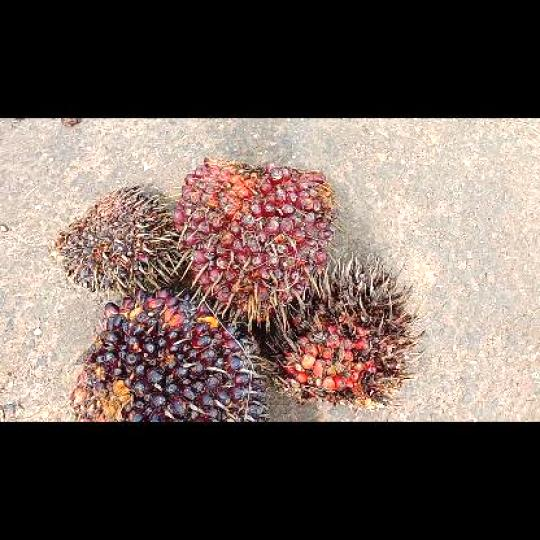kurang masak: (69, 286, 271, 420)
masak: (170, 152, 335, 326)
terlalu masak: (262, 256, 429, 411)
